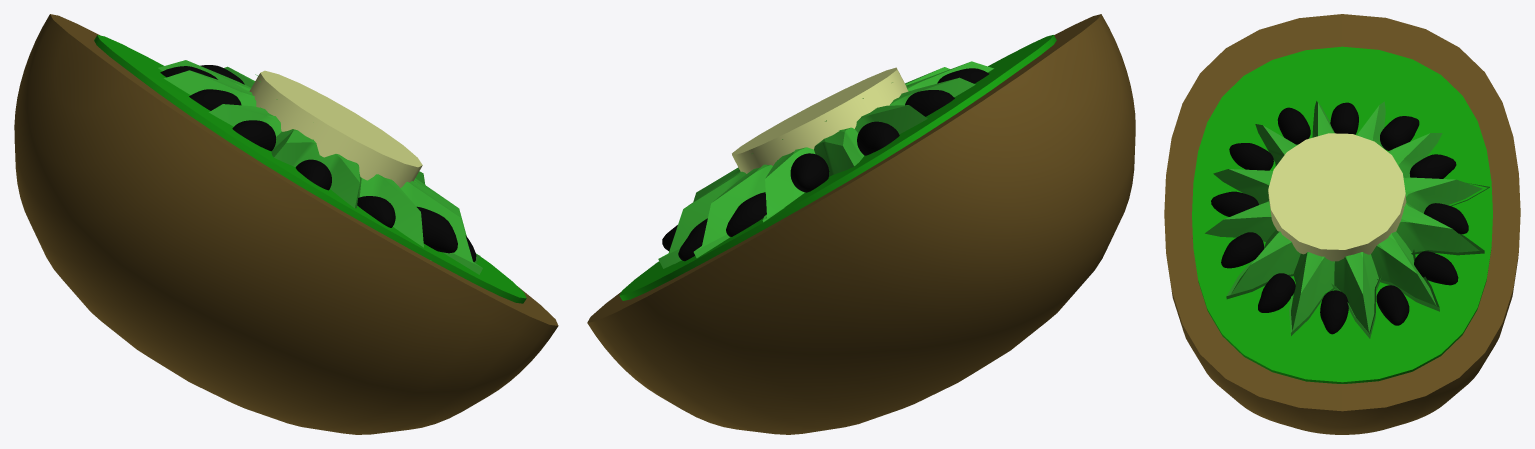
File: kiwi.FBX
3 renders of one model, left to right at view 1: azimuth 30°, elevation 25°; view 2: azimuth 150°, elevation 25°; view 3: azimuth 270°, elevation 25°, orthographic. The views are drawn at different scales.
Visible parts, largest first — view 1: Sphere091, Cylinder024, Sphere092, Star001, Star002, Sphere101, Sphere095, Sphere094, Sphere093, Sphere096; view 2: Sphere091, Sphere092, Cylinder024, Star001, Star002, Sphere098, Sphere099, Sphere097, Sphere096, Sphere100; view 3: Sphere092, Sphere091, Cylinder024, Star002, Star001, Sphere101, Sphere100, Sphere102, Sphere104, Sphere103, Sphere093, Sphere097 (+5 smaller).
Boxes of the visible parts, left/top/right/bottom form: Sphere091: left=14, top=14, right=558, bottom=434; Cylinder024: left=249, top=70, right=422, bottom=187; Sphere092: left=94, top=35, right=526, bottom=303; Star001: left=164, top=66, right=479, bottom=262; Star002: left=158, top=60, right=482, bottom=274; Sphere101: left=417, top=206, right=457, bottom=253; Sphere095: left=232, top=120, right=275, bottom=151; Sphere094: left=357, top=196, right=395, bottom=227; Sphere093: left=295, top=159, right=331, bottom=190; Sphere096: left=189, top=89, right=241, bottom=110; Sphere091: left=587, top=14, right=1135, bottom=434; Sphere092: left=619, top=35, right=1056, bottom=300; Cylinder024: left=732, top=67, right=908, bottom=173; Star001: left=658, top=61, right=993, bottom=268; Star002: left=693, top=67, right=975, bottom=257; Sphere098: left=790, top=153, right=829, bottom=192; Sphere099: left=726, top=192, right=766, bottom=236; Sphere097: left=857, top=121, right=899, bottom=155; Sphere096: left=905, top=90, right=954, bottom=116; Sphere100: left=678, top=218, right=707, bottom=261; Sphere092: left=1192, top=46, right=1492, bottom=383; Sphere091: left=1164, top=14, right=1520, bottom=434; Cylinder024: left=1268, top=133, right=1406, bottom=261; Star002: left=1213, top=100, right=1484, bottom=338; Star001: left=1192, top=101, right=1489, bottom=335; Sphere101: left=1221, top=232, right=1263, bottom=268; Sphere100: left=1414, top=251, right=1458, bottom=285; Sphere102: left=1258, top=273, right=1295, bottom=312; Sphere104: left=1320, top=290, right=1348, bottom=334; Sphere103: left=1376, top=285, right=1409, bottom=325; Sphere093: left=1229, top=143, right=1273, bottom=170; Sphere097: left=1380, top=116, right=1419, bottom=150.
Bounding box in the file's own units: 10.99 × 9.52 × 9.83.
